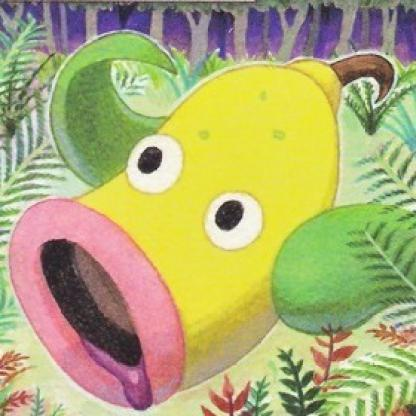Weepinbell: (28, 16, 416, 409)
